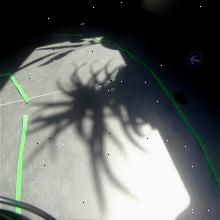left: (186, 49, 202, 69)
